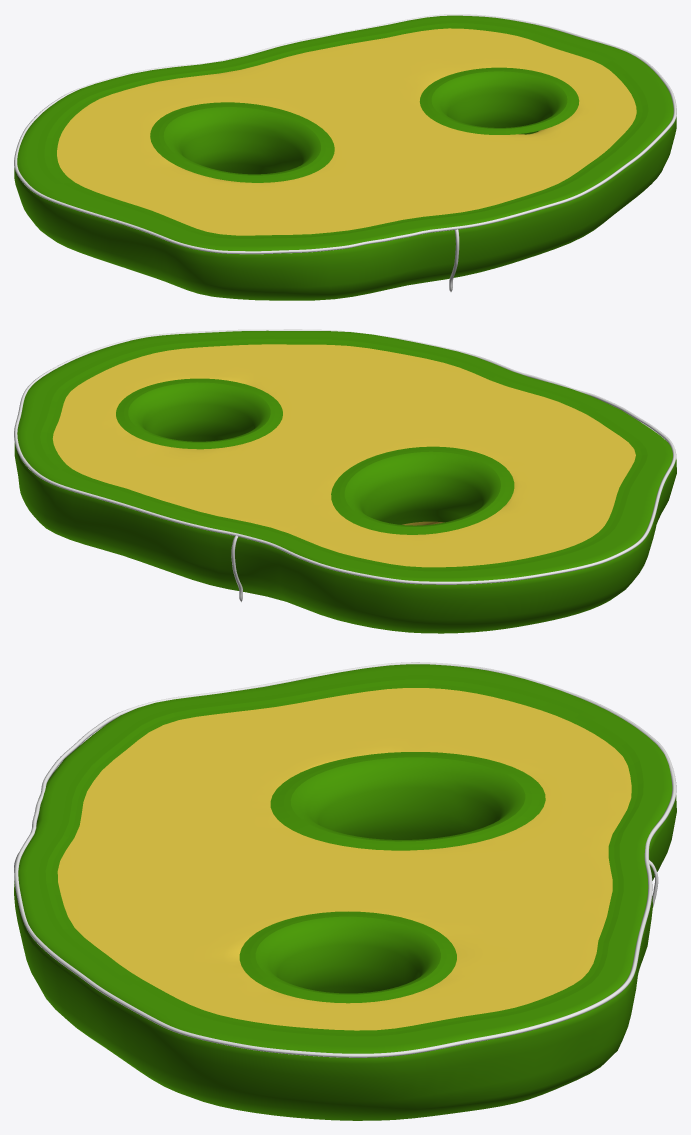
File: arena new new 3.fbx
3 renders of one model, top to bottom at view 1: azimuth 30°, elevation 25°; view 2: azimuth 150°, elevation 25°; view 3: azimuth 270°, elevation 25°, orthographic. The views are drawn at different scales.
Visible parts, largest first — view 1: pasted__polySurface24, pasted__pSphere6, pasted__pCylinder4, pasted__pCylinder3, defaultBrush1Main; view 2: pasted__polySurface24, pasted__pSphere6, pasted__pCylinder4, pasted__pCylinder3, defaultBrush1Main; view 3: pasted__polySurface24, pasted__pSphere6, pasted__pCylinder4, pasted__pCylinder3, defaultBrush1Main.
Part boxes in pixels (x1,y1,x2,y2): pasted__polySurface24: (57, 28, 636, 235); pasted__pSphere6: (14, 15, 676, 300); pasted__pCylinder4: (150, 102, 334, 182); pasted__pCylinder3: (419, 67, 579, 134); defaultBrush1Main: (14, 14, 676, 254); pasted__polySurface24: (52, 344, 635, 567); pasted__pSphere6: (14, 330, 676, 633); pasted__pCylinder4: (331, 446, 514, 534); pasted__pCylinder3: (116, 378, 282, 449); defaultBrush1Main: (14, 329, 676, 584); pasted__polySurface24: (57, 688, 631, 1030); pasted__pSphere6: (14, 664, 676, 1120); pasted__pCylinder4: (270, 752, 545, 850); pasted__pCylinder3: (239, 911, 456, 1003); defaultBrush1Main: (14, 662, 676, 1057).
Bounding box in the file's own units: 985 × 151 × 701.
